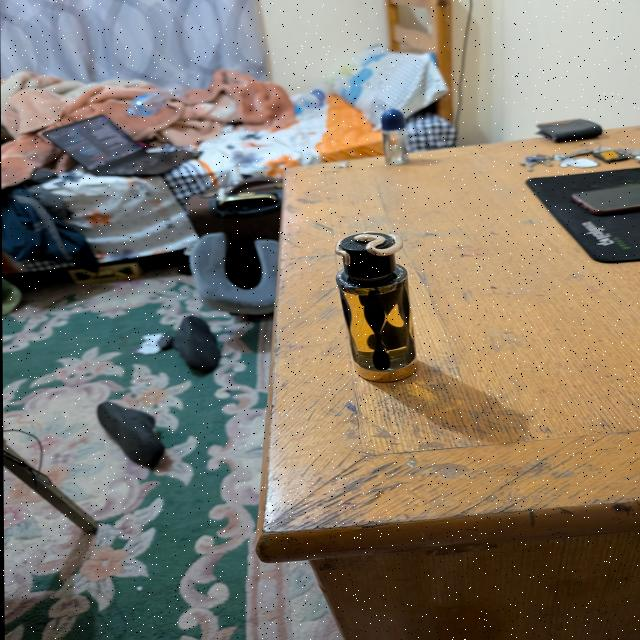Teriaq-Intense: (331, 230, 422, 384)
